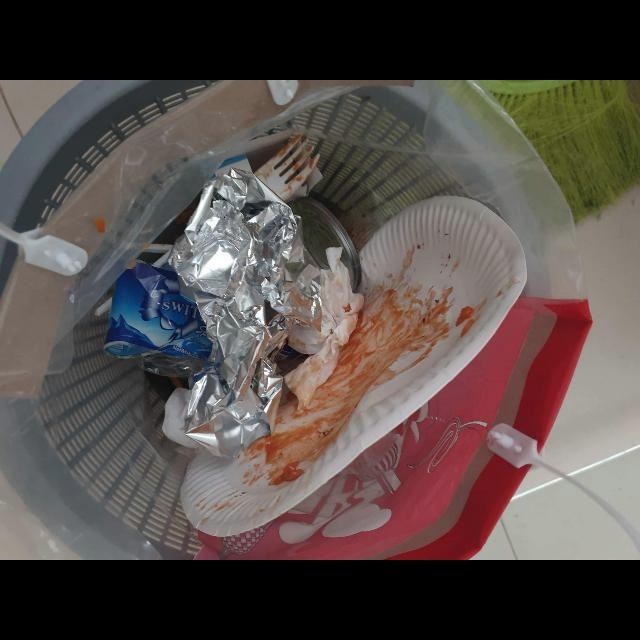aluminum: (168, 158, 321, 458)
paper: (179, 197, 528, 539), (284, 247, 364, 411)
